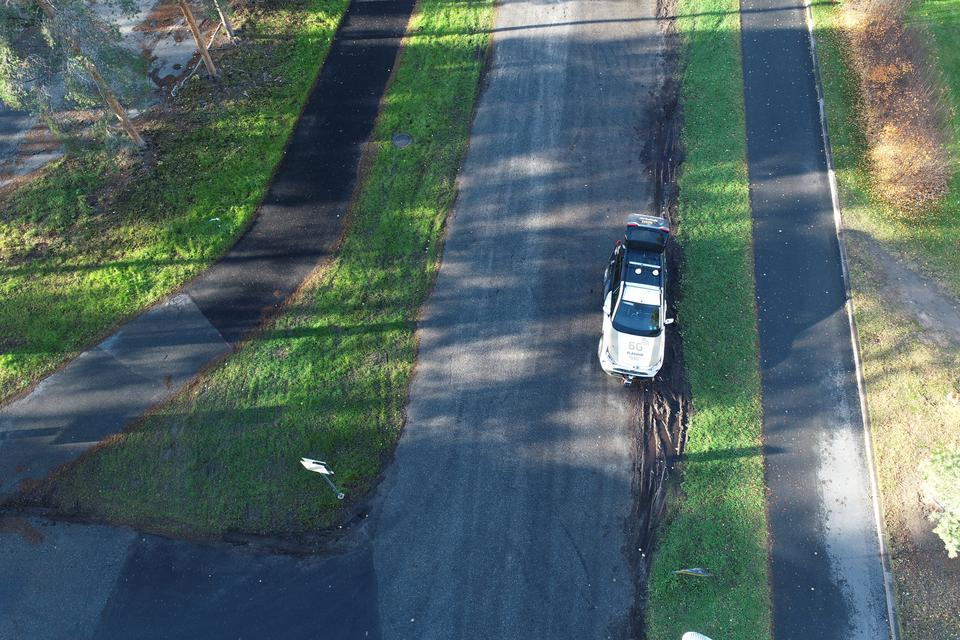intersection: (0, 334, 721, 640)
